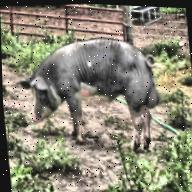boar: (12, 29, 172, 162)
